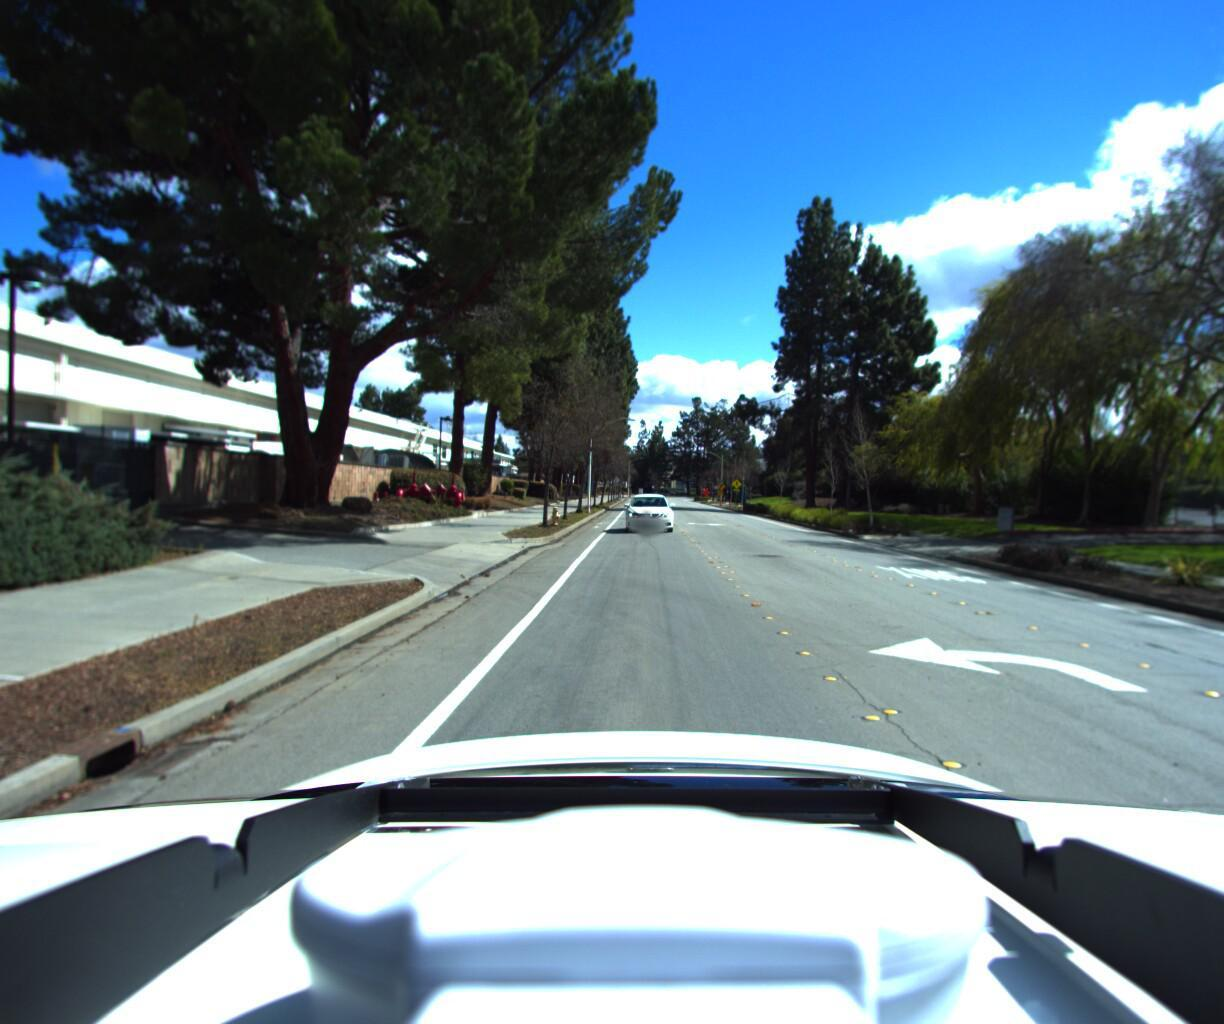car: (622, 499, 671, 542)
